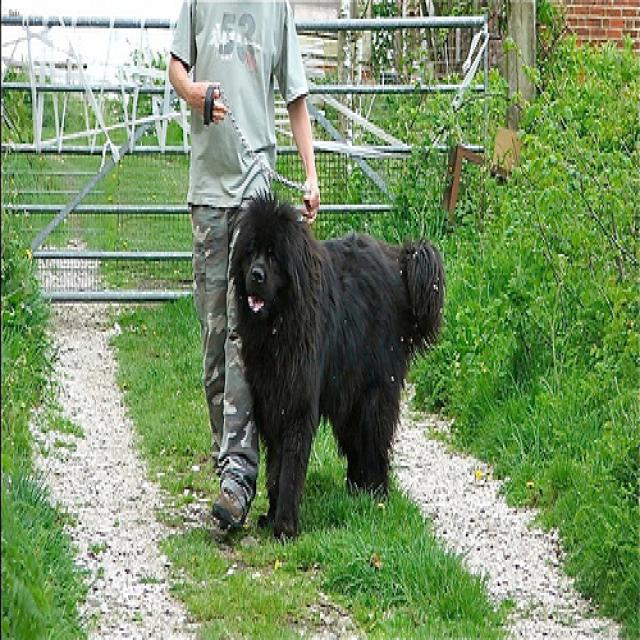dog-newfoundland: (220, 181, 451, 553)
